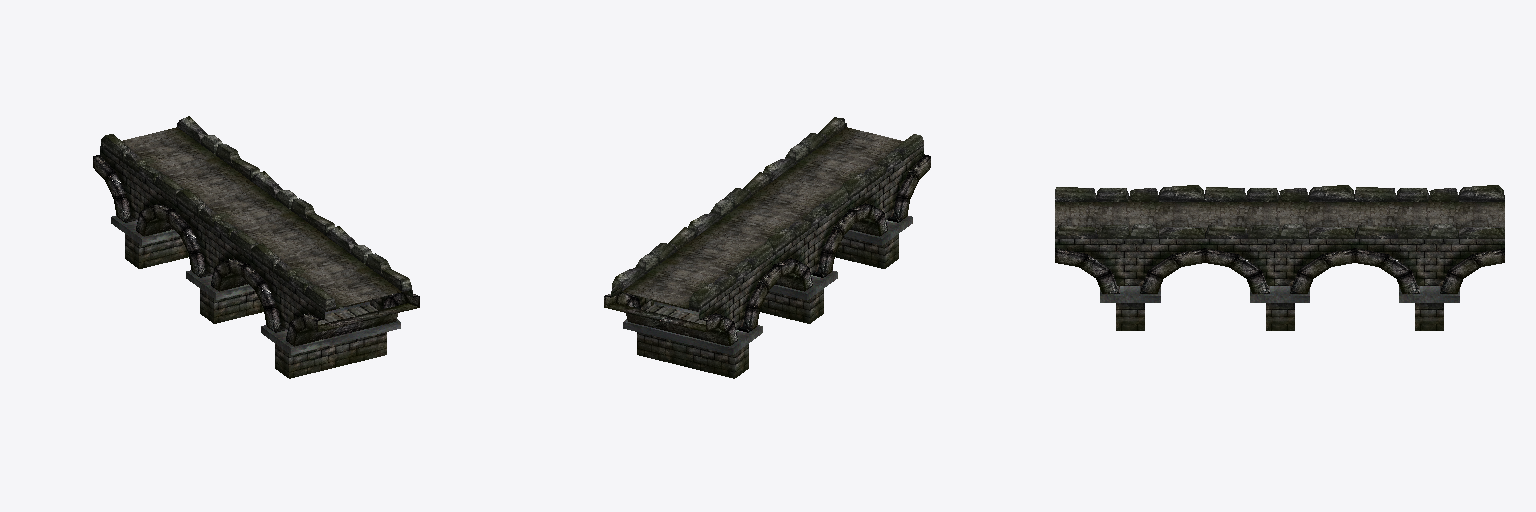
3 views of the same model, side by side, from view 1: azimuth 30°, elevation 25°; view 2: azimuth 150°, elevation 25°; view 3: azimuth 270°, elevation 25° (orthographic).
Visible parts, largest first — view 1: Tube01; view 2: Tube01; view 3: Tube01.
Boxes of the visible parts, x1,y1,x2,y2 form: Tube01: [93, 116, 419, 378]; Tube01: [604, 117, 930, 378]; Tube01: [1055, 185, 1504, 330].
Bounding box in the file's own units: 96.91 × 86.12 × 346.
1 materials, 1 textured.